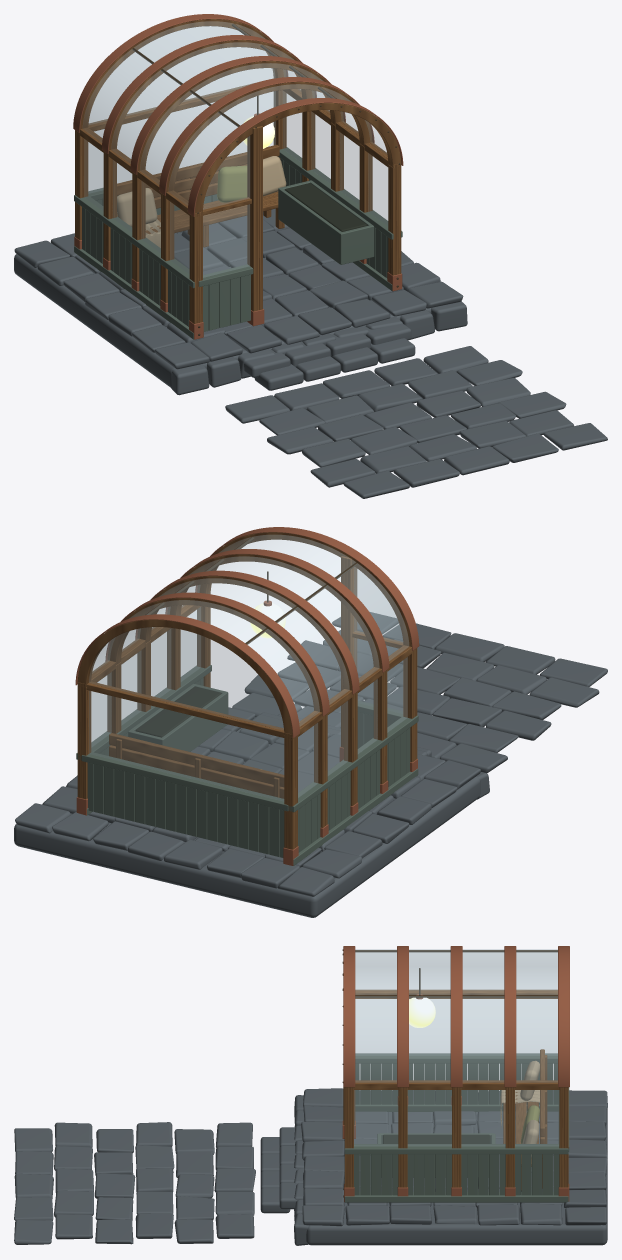
File: refuge_512.glb
The picture shows the model from 3 angles, top to bottom: view 1: azimuth 30°, elevation 25°; view 2: azimuth 150°, elevation 25°; view 3: azimuth 270°, elevation 25°; orthographic projection. The views are drawn at different scales.
Parts seen in each view (by area): view 1: Opaque_Basalt, Opaque_Oak, Opaque_Sage, Opaque_Copper, GlassPane_21, GlassPane_20, Opaque_Linen, GlassPane_22, GlassPane_02, GlassPane_05, GlassPane_11, GlassPane_08 (+15 smaller); view 2: Opaque_Basalt, Opaque_Oak, Opaque_Sage, GlassPane_20, GlassPane_21, Opaque_Copper, GlassPane_11, GlassPane_02, GlassPane_05, GlassPane_08, GlassPane_07, GlassPane_04 (+14 smaller); view 3: Opaque_Basalt, Opaque_Sage, Opaque_Copper, Opaque_Oak, GlassPane_00, GlassPane_03, GlassPane_09, GlassPane_06, GlassPane_18, GlassPane_16, GlassPane_17, GlassPane_19 (+16 smaller).
Boxes of the visible parts, x1=… form: Opaque_Basalt: x1=14, y1=208, x2=607, y2=498; Opaque_Oak: x1=75, y1=19, x2=401, y2=323; Opaque_Sage: x1=74, y1=147, x2=402, y2=339; Opaque_Copper: x1=73, y1=14, x2=403, y2=339; GlassPane_21: x1=89, y1=26, x2=274, y2=124; GlassPane_20: x1=89, y1=91, x2=275, y2=192; Opaque_Linen: x1=117, y1=156, x2=286, y2=247; GlassPane_22: x1=203, y1=204, x2=249, y2=277; GlassPane_02: x1=169, y1=112, x2=238, y2=205; GlassPane_05: x1=140, y1=91, x2=209, y2=184; GlassPane_11: x1=83, y1=49, x2=152, y2=142; GlassPane_08: x1=111, y1=70, x2=180, y2=163; Opaque_Basalt: x1=14, y1=612, x2=607, y2=917; Opaque_Oak: x1=77, y1=532, x2=417, y2=849; Opaque_Sage: x1=76, y1=665, x2=418, y2=865; GlassPane_20: x1=89, y1=691, x2=283, y2=800; GlassPane_21: x1=89, y1=627, x2=283, y2=729; Opaque_Copper: x1=75, y1=527, x2=419, y2=865; GlassPane_11: x1=247, y1=629, x2=319, y2=725; GlassPane_02: x1=337, y1=563, x2=408, y2=660; GlassPane_05: x1=307, y1=585, x2=379, y2=682; GlassPane_08: x1=277, y1=607, x2=349, y2=704; GlassPane_07: x1=176, y1=578, x2=295, y2=620; GlassPane_04: x1=205, y1=556, x2=325, y2=598; Opaque_Basalt: x1=14, y1=1088, x2=607, y2=1245; Opaque_Sage: x1=344, y1=1053, x2=569, y2=1202; Opaque_Copper: x1=342, y1=946, x2=569, y2=1201; Opaque_Oak: x1=343, y1=989, x2=568, y2=1190; GlassPane_00: x1=355, y1=996, x2=396, y2=1082; GlassPane_03: x1=409, y1=996, x2=450, y2=1082; GlassPane_09: x1=516, y1=996, x2=557, y2=1082; GlassPane_06: x1=463, y1=996, x2=503, y2=1082; GlassPane_18: x1=461, y1=1090, x2=505, y2=1146; GlassPane_16: x1=354, y1=1090, x2=397, y2=1146; GlassPane_17: x1=408, y1=1090, x2=451, y2=1146; GlassPane_19: x1=515, y1=1090, x2=558, y2=1146.
Size of the model in its own units: 4.72 by 3.7 by 8.85.
Materials: 10 (1 with a texture image).
